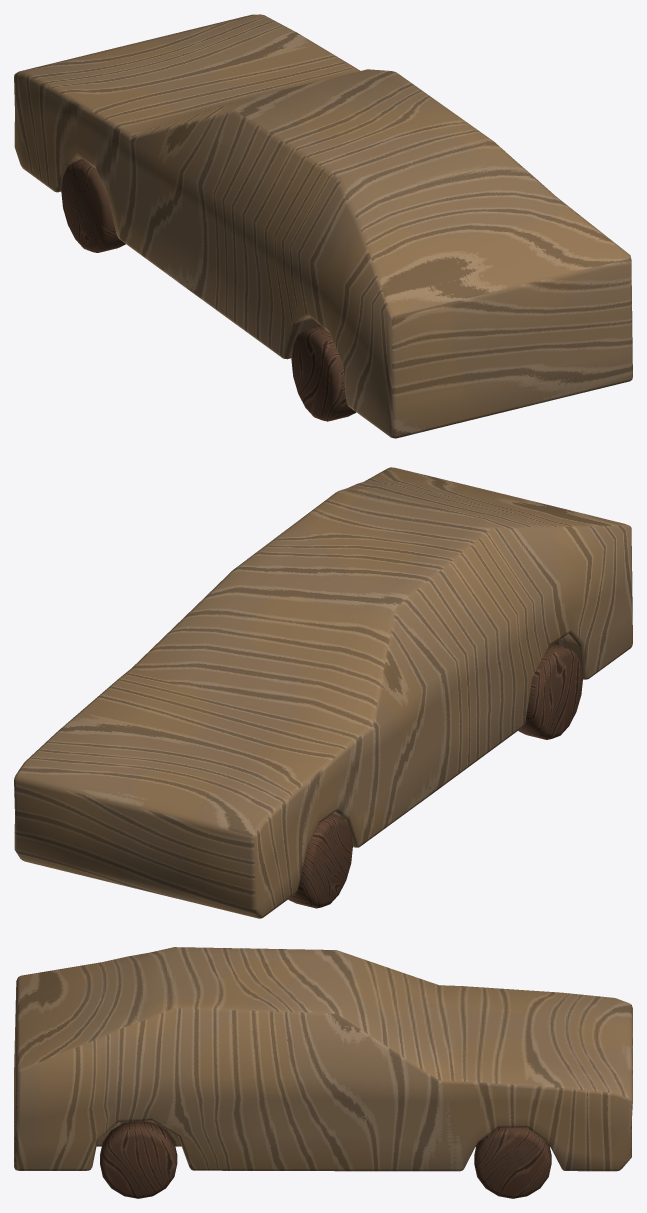
Rendered from ToyCar_GAMEPLAY.fbx.
3 renders of one model, top to bottom at view 1: azimuth 30°, elevation 25°; view 2: azimuth 150°, elevation 25°; view 3: azimuth 270°, elevation 25°, orthographic. The views are drawn at different scales.
Visible parts, largest first — view 1: Cube, Cylinder; view 2: Cube, Cylinder; view 3: Cube, Cylinder.
Part boxes in pixels (x1,y1,x2,y2): Cube: [14, 14, 632, 438]; Cylinder: [61, 159, 356, 421]; Cube: [14, 467, 632, 918]; Cylinder: [288, 644, 582, 908]; Cube: [14, 947, 632, 1171]; Cylinder: [100, 1121, 551, 1198].
Bounding box in the file's own units: 170 × 140 × 448.
